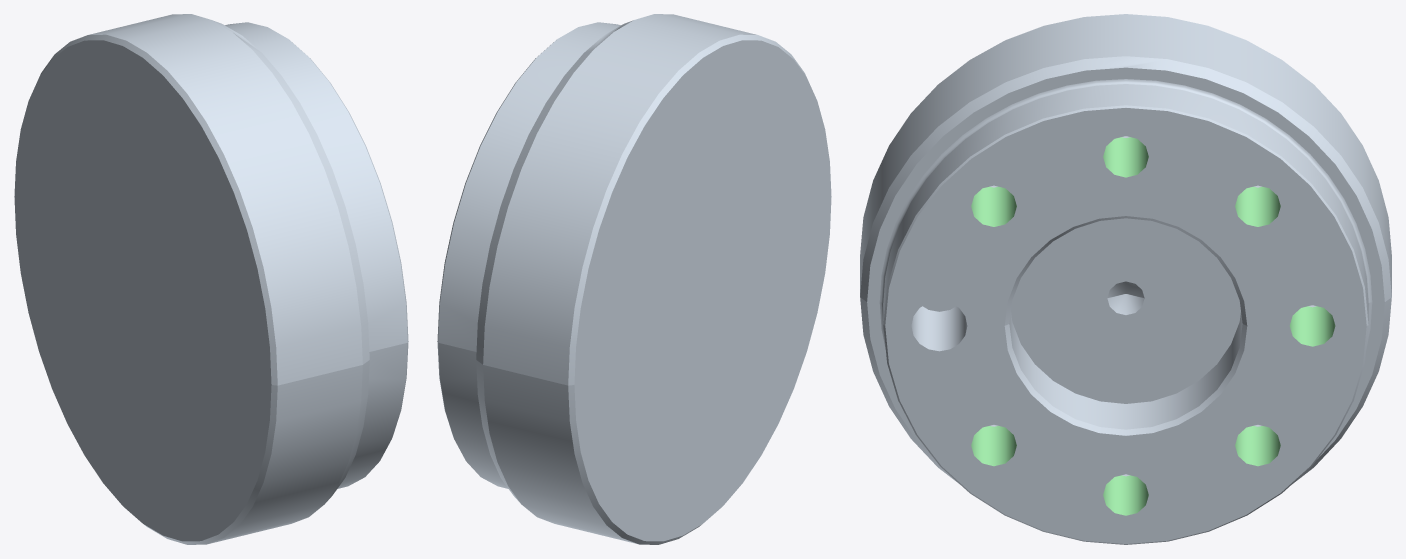
3 renders of one model, left to right at view 1: azimuth 30°, elevation 25°; view 2: azimuth 150°, elevation 25°; view 3: azimuth 270°, elevation 25°, orthographic.
Visible parts, largest first — view 1: Mesh_0; view 2: Mesh_0; view 3: Mesh_0.
Part boxes in pixels (x1,y1,x2,y2): Mesh_0: [14, 14, 408, 544]; Mesh_0: [437, 14, 831, 544]; Mesh_0: [860, 14, 1391, 544].
Bounding box in the file's own units: 0.0185 × 0.057 × 0.057.
